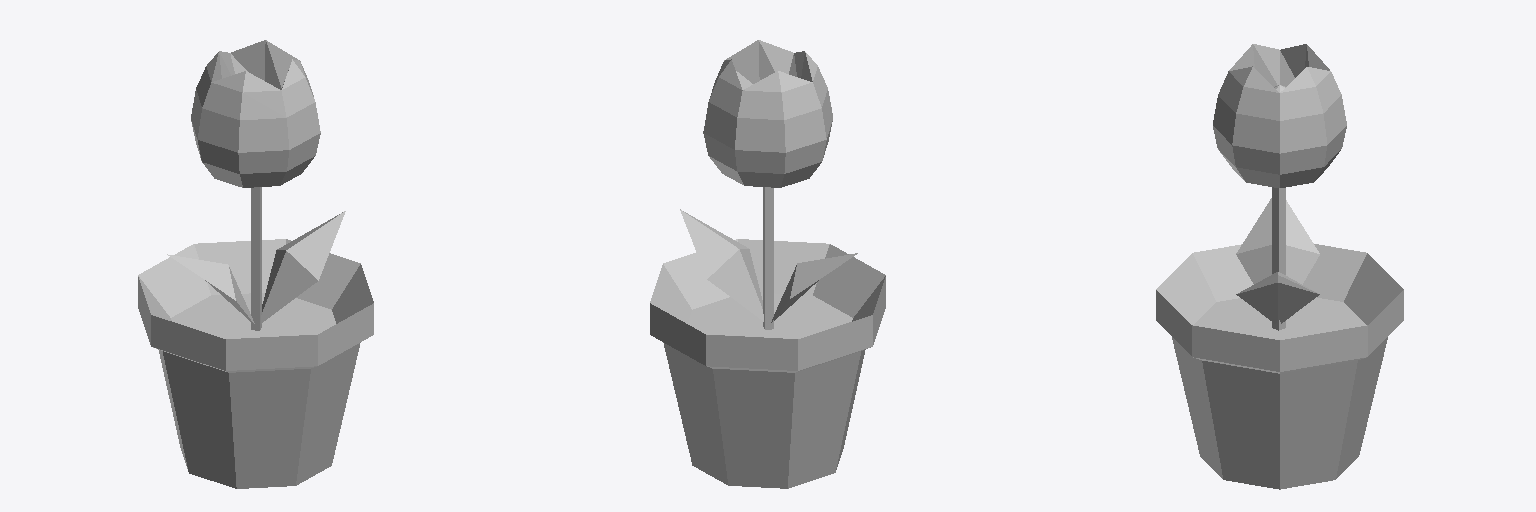
Rendered from COPY.ICO.obj.
3 renders of one model, left to right at view 1: azimuth 30°, elevation 25°; view 2: azimuth 150°, elevation 25°; view 3: azimuth 270°, elevation 25°, orthographic.
Size of the model in its own units: 2.52 by 4.6 by 2.57.